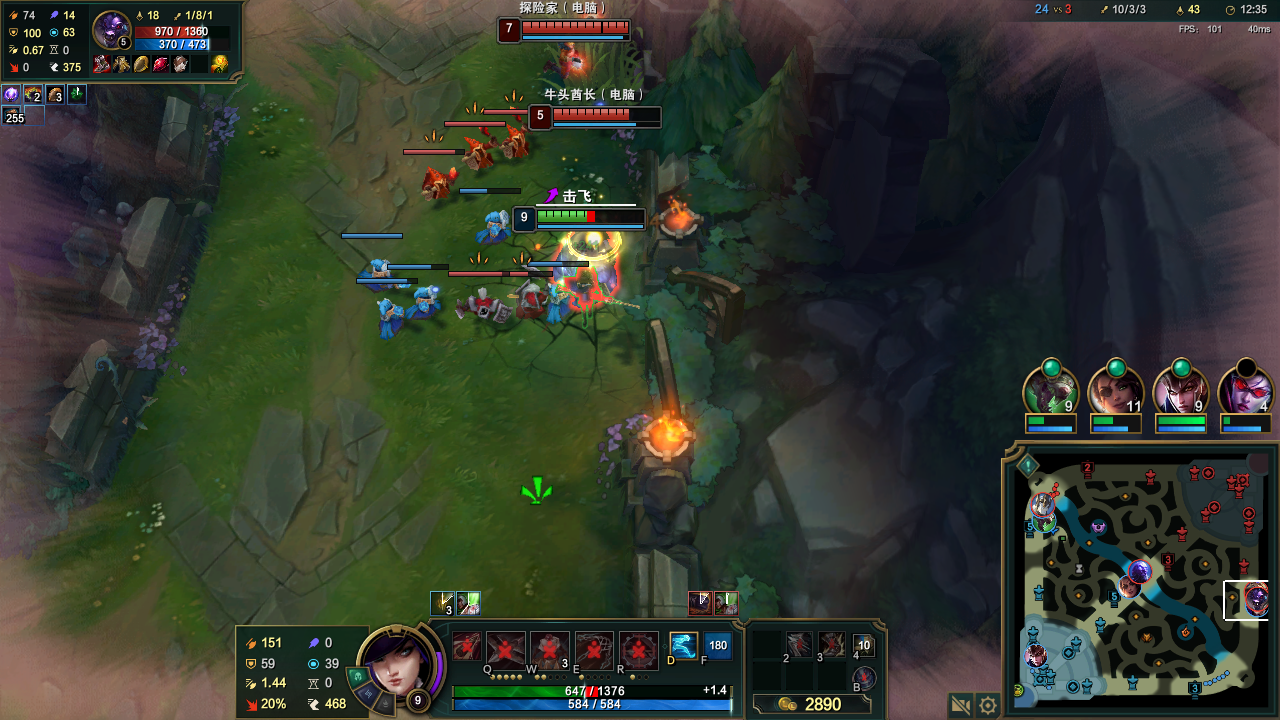DFXB: (416, 170, 458, 200), (461, 288, 498, 319), (512, 280, 540, 319), (461, 140, 491, 167), (503, 132, 527, 157)
DFYX: (519, 15, 627, 36), (550, 111, 641, 122)
WFXB: (354, 259, 405, 293), (476, 209, 508, 245), (372, 295, 403, 330), (542, 282, 566, 322), (410, 287, 438, 314)
